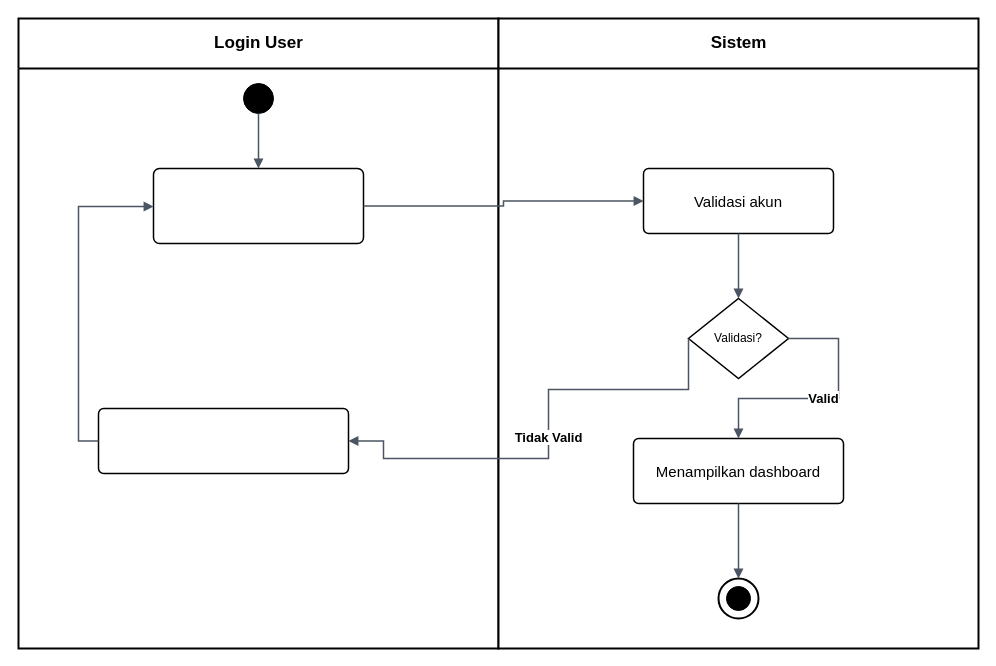
This 996x666 diagram has some shape labels left out. The centre of each missing label's shape, as x and y in pixels:
Masukkan email dan password: (258,205)
Menampilkan pesan login gagal: (223,440)
